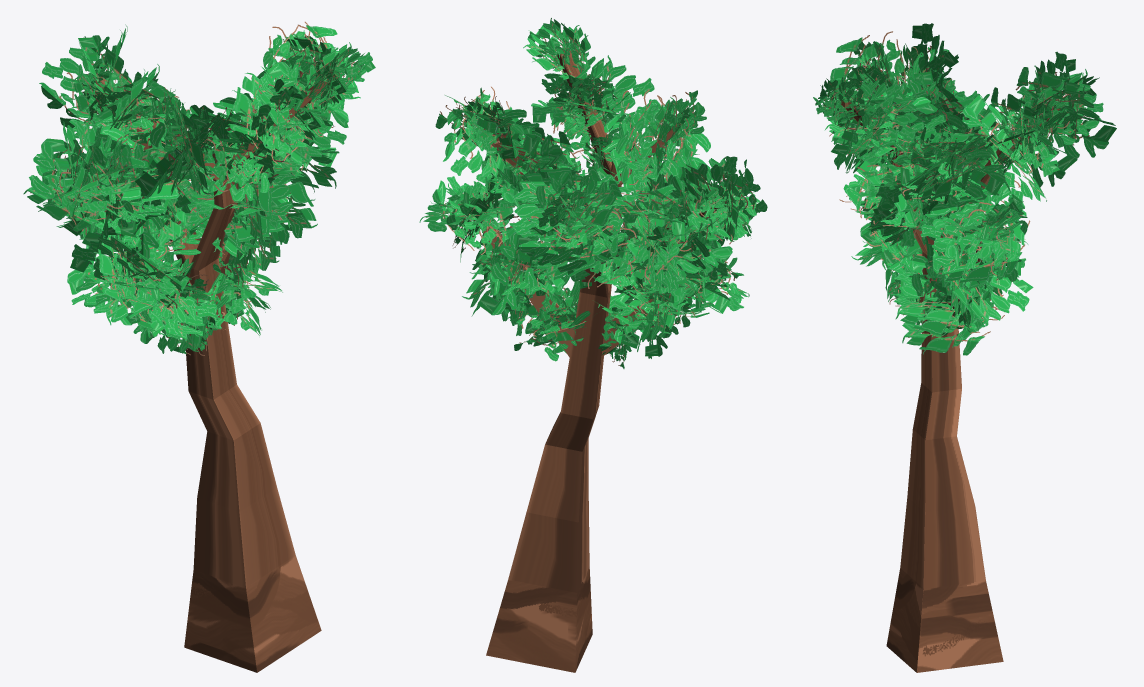
Rendered from TreeWithLight.fbx.
The picture shows the model from 3 angles, left to right: view 1: azimuth 30°, elevation 25°; view 2: azimuth 150°, elevation 25°; view 3: azimuth 270°, elevation 25°; orthographic projection. The views are drawn at different scales.
Visible parts, largest first — view 1: Cube, Cube|branch|Dupli|56, Cube|branch|Dupli|216, Cube|branch|Dupli|4, Cube|branch|Dupli|111, Cube|branch|Dupli|17, Cube|branch|Dupli|176, Cube|branch|Dupli|108, Cube|branch|Dupli|171, Cube|branch|Dupli|31, Cube|branch|Dupli|74, Cube|branch|Dupli|113 (+42 smaller); view 2: Cube, Cube|branch|Dupli|44, Cube|branch|Dupli|52, Cube|branch|Dupli|23, Cube|branch|Dupli|113, Cube|branch|Dupli|216, Cube|branch|Dupli|92, Cube|branch|Dupli|55, Cube|branch|Dupli|128, Cube|branch|Dupli|105, Cube|branch|Dupli|125, Cube|branch|Dupli|68 (+45 smaller); view 3: Cube, Cube|branch|Dupli|144, Cube|branch|Dupli|44, Cube|branch|Dupli|125, Cube|branch|Dupli|108, Cube|branch|Dupli|160, Cube|branch|Dupli|5, Cube|branch|Dupli|142, Cube|branch|Dupli|92, Cube|branch|Dupli|55, Cube|branch|Dupli|68, Cube|branch|Dupli|10 (+33 smaller).
Part boxes in pixels (<box>): Cube: <box>71,71,336,672</box>; Cube|branch|Dupli|56: <box>39,36,141,128</box>; Cube|branch|Dupli|216: <box>31,119,108,231</box>; Cube|branch|Dupli|4: <box>23,139,123,231</box>; Cube|branch|Dupli|111: <box>143,104,229,207</box>; Cube|branch|Dupli|17: <box>250,84,348,168</box>; Cube|branch|Dupli|176: <box>70,235,181,308</box>; Cube|branch|Dupli|108: <box>149,87,211,194</box>; Cube|branch|Dupli|171: <box>67,245,174,325</box>; Cube|branch|Dupli|31: <box>230,72,332,163</box>; Cube|branch|Dupli|74: <box>181,152,295,245</box>; Cube|branch|Dupli|113: <box>135,107,232,196</box>; Cube: <box>479,49,726,672</box>; Cube|branch|Dupli|44: <box>509,166,620,264</box>; Cube|branch|Dupli|52: <box>535,172,618,243</box>; Cube|branch|Dupli|23: <box>548,55,656,154</box>; Cube|branch|Dupli|113: <box>604,89,710,195</box>; Cube|branch|Dupli|216: <box>680,156,767,228</box>; Cube|branch|Dupli|92: <box>443,86,518,181</box>; Cube|branch|Dupli|55: <box>521,177,636,273</box>; Cube|branch|Dupli|128: <box>427,176,515,254</box>; Cube|branch|Dupli|105: <box>616,95,695,184</box>; Cube|branch|Dupli|125: <box>462,233,537,316</box>; Cube|branch|Dupli|68: <box>435,105,541,155</box>; Cube: <box>841,69,1064,672</box>; Cube|branch|Dupli|144: <box>920,185,1030,286</box>; Cube|branch|Dupli|44: <box>1015,67,1116,158</box>; Cube|branch|Dupli|125: <box>932,228,1033,325</box>; Cube|branch|Dupli|108: <box>827,31,921,115</box>; Cube|branch|Dupli|160: <box>932,200,1028,269</box>; Cube|branch|Dupli|5: <box>962,95,1057,172</box>; Cube|branch|Dupli|142: <box>894,255,996,341</box>; Cube|branch|Dupli|92: <box>910,140,1005,195</box>; Cube|branch|Dupli|55: <box>991,87,1077,187</box>; Cube|branch|Dupli|68: <box>917,114,990,203</box>; Cube|branch|Dupli|10: <box>852,91,945,189</box>.
Size of the model in its own units: 62.61 by 107 by 51.95.
